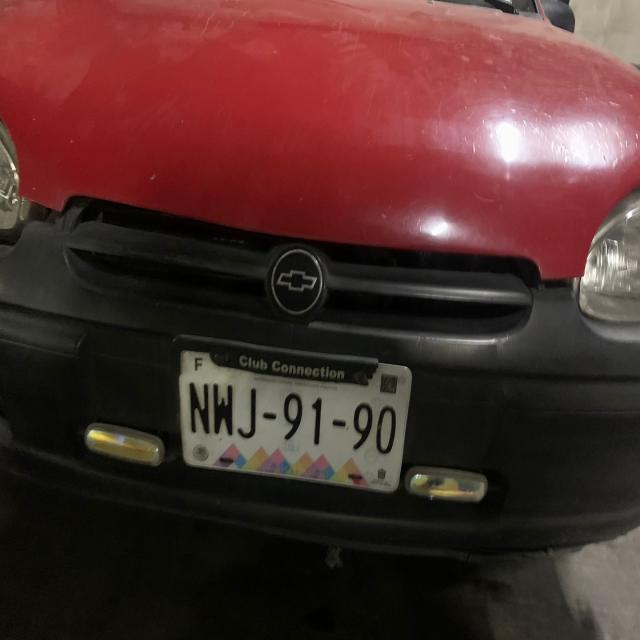placa: (182, 379, 406, 453)
